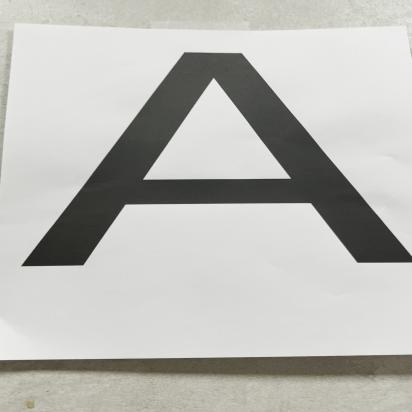seat: (0, 21, 412, 308)
